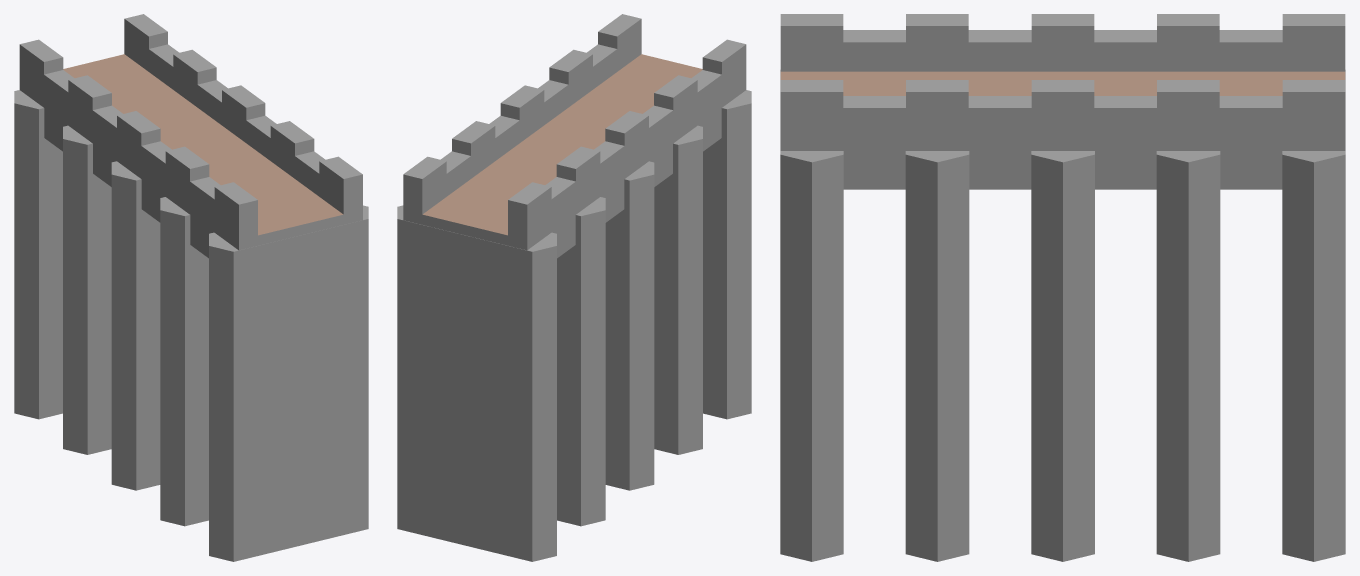
File: Bridge04.fbx
The picture shows the model from 3 angles, left to right: view 1: azimuth 30°, elevation 25°; view 2: azimuth 150°, elevation 25°; view 3: azimuth 270°, elevation 25°; orthographic projection. The views are drawn at different scales.
Visible parts, largest first — view 1: Bridge_Big; view 2: Bridge_Big; view 3: Bridge_Big.
Part boxes in pixels (box(x1,y1,x2,y2)): Bridge_Big: box(14, 14, 368, 561); Bridge_Big: box(397, 14, 751, 561); Bridge_Big: box(780, 14, 1345, 561).
Bounding box in the file's own units: 0.7293 × 1.55 × 1.73.
